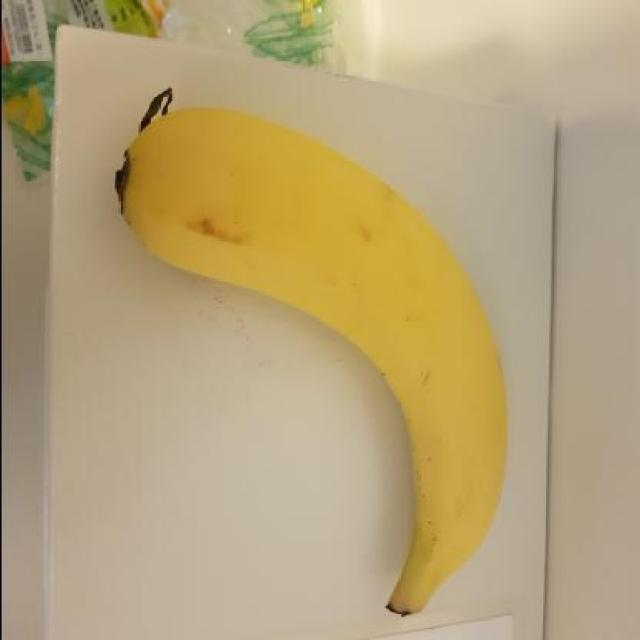banana: (109, 90, 514, 622)
